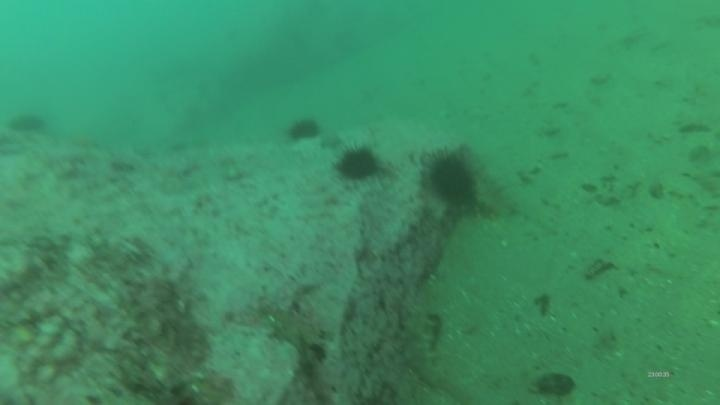echinus: (422, 147, 481, 210), (333, 143, 383, 183), (7, 109, 49, 138), (285, 115, 323, 145)
holothurian: (398, 303, 446, 389)
